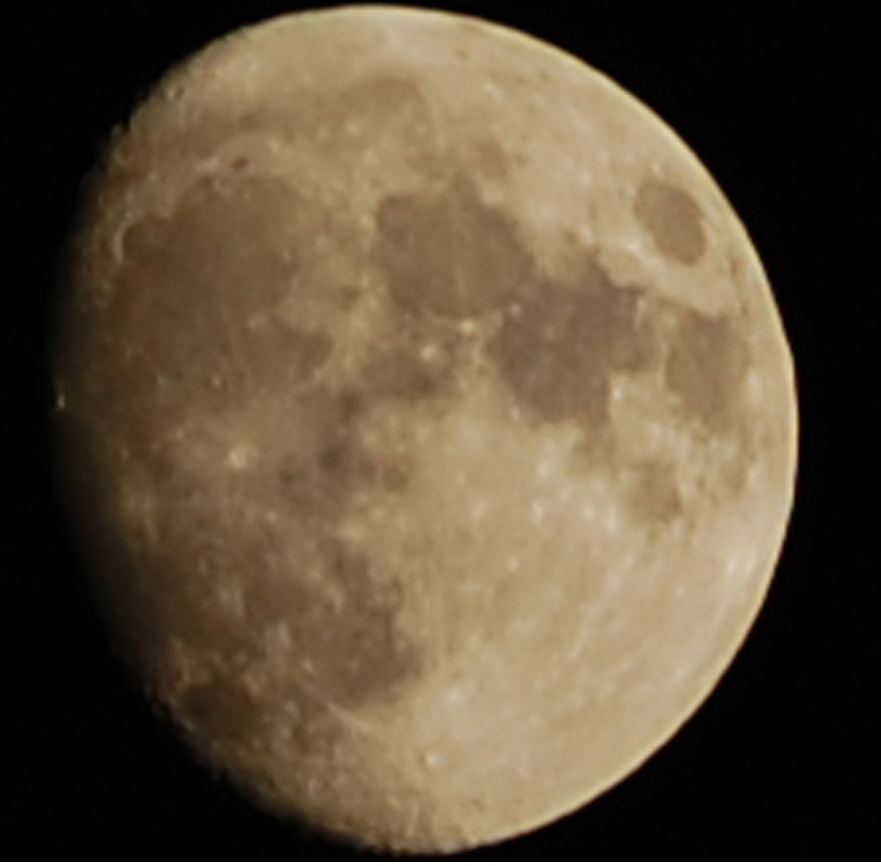crater: (376, 701, 497, 797), (214, 432, 278, 483)
